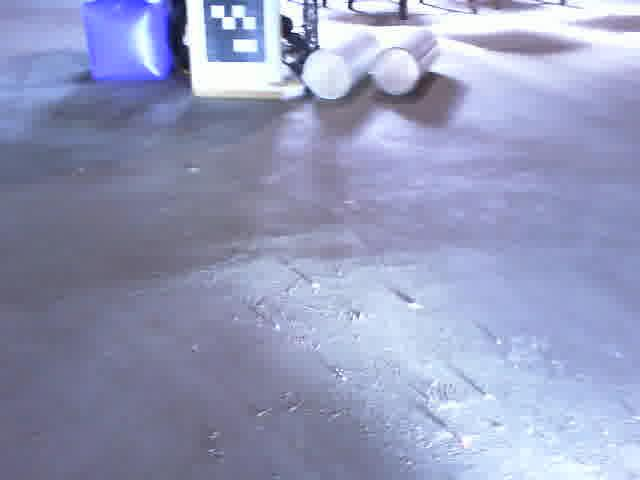coral: (303, 29, 379, 100), (372, 30, 442, 95)
